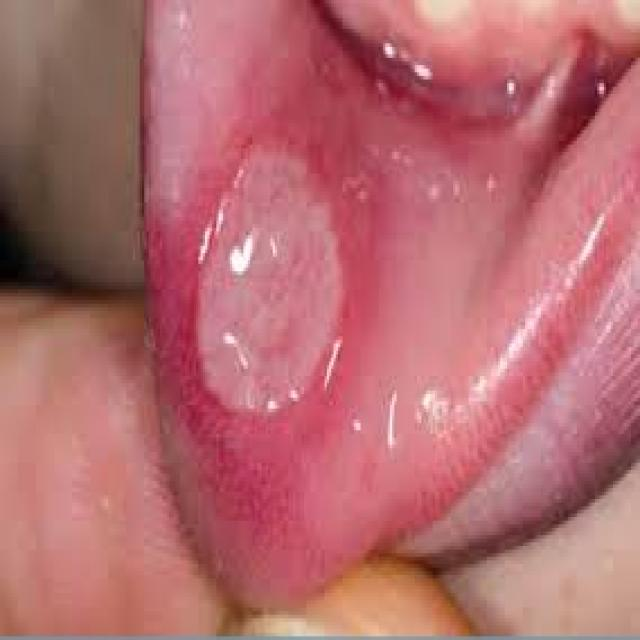processing_area: (149, 0, 638, 585)
ulcer-detection: (176, 111, 367, 438)
